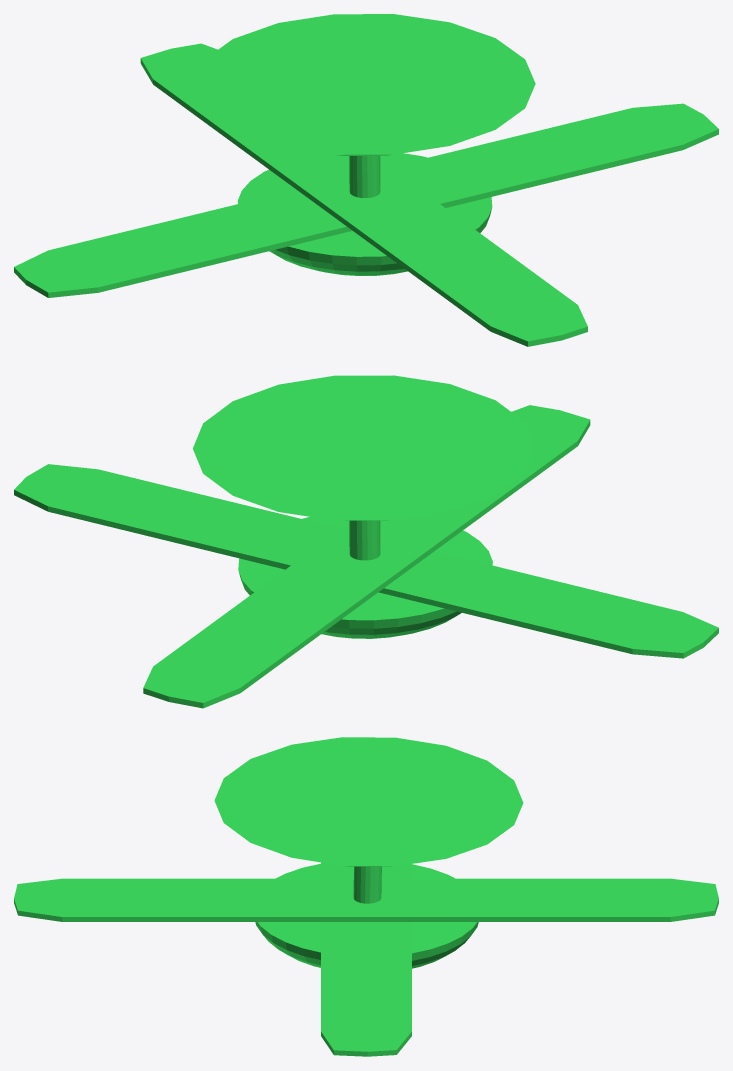
Rendered from Celling_Fan.fbx.
The picture shows the model from 3 angles, top to bottom: view 1: azimuth 30°, elevation 25°; view 2: azimuth 150°, elevation 25°; view 3: azimuth 270°, elevation 25°; orthographic projection. The views are drawn at different scales.
Visible parts, largest first — view 1: Cube.029; view 2: Cube.029; view 3: Cube.029.
Part boxes in pixels (x1,y1,x2,y2): Cube.029: [14, 14, 718, 346]; Cube.029: [14, 375, 718, 708]; Cube.029: [14, 737, 718, 1056].
Bounding box in the file's own units: 229 × 54.57 × 229.
